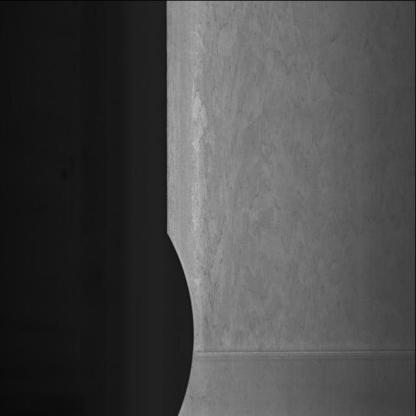crescent_gap: (154, 224, 202, 416)
silk_spot: (190, 12, 390, 323)
welding_line: (190, 336, 416, 368)
